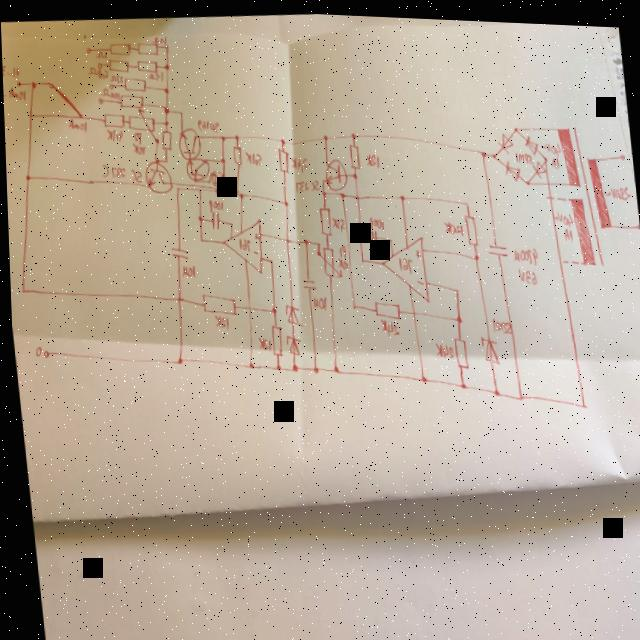capacitor: (485, 235, 508, 253), (168, 244, 187, 258), (299, 273, 316, 288), (208, 206, 220, 227), (368, 224, 378, 244)
crossover: (407, 304, 415, 313), (243, 299, 250, 309), (544, 174, 551, 182)
diode: (478, 328, 499, 360), (502, 153, 521, 181), (282, 298, 301, 324), (283, 330, 301, 354), (496, 125, 514, 148), (523, 129, 539, 151), (531, 153, 547, 175)
junction: (417, 368, 426, 380), (244, 359, 253, 368), (195, 210, 203, 220), (453, 309, 461, 319), (330, 361, 338, 371), (18, 284, 25, 295), (578, 395, 586, 404), (29, 79, 37, 88), (163, 103, 170, 113), (356, 228, 363, 238), (491, 382, 498, 392), (281, 196, 289, 204), (357, 252, 365, 260), (174, 292, 182, 300), (545, 187, 553, 195), (282, 233, 290, 241), (310, 361, 317, 370), (512, 119, 519, 128), (320, 185, 327, 194), (27, 110, 34, 119), (302, 234, 309, 242), (163, 84, 170, 92), (471, 249, 478, 257), (457, 376, 464, 384), (480, 145, 487, 153), (23, 172, 30, 180), (175, 354, 182, 362), (197, 232, 204, 240), (398, 189, 405, 197), (237, 188, 244, 196), (514, 388, 521, 396), (269, 303, 276, 311), (351, 167, 358, 175), (289, 360, 296, 368), (321, 130, 328, 138), (174, 181, 181, 189), (338, 187, 345, 195), (349, 127, 356, 135), (353, 189, 360, 197), (491, 146, 498, 154), (523, 173, 530, 181), (219, 153, 226, 161), (273, 360, 279, 368), (232, 183, 238, 191), (233, 131, 239, 138), (453, 282, 459, 289), (153, 135, 159, 142), (556, 251, 562, 258), (220, 132, 226, 138), (213, 185, 219, 191), (163, 118, 169, 124), (164, 61, 169, 68), (350, 299, 355, 306), (268, 254, 273, 261), (178, 107, 183, 114), (163, 155, 168, 161), (314, 236, 319, 242), (464, 196, 468, 202), (229, 218, 233, 224), (320, 174, 324, 180), (196, 184, 200, 190), (387, 233, 391, 239)
resistor: (198, 286, 237, 315), (125, 102, 157, 136), (265, 317, 284, 357), (371, 293, 400, 318), (317, 241, 338, 275), (450, 330, 468, 367), (463, 207, 478, 242), (100, 109, 127, 128), (118, 91, 146, 109), (122, 74, 148, 92), (134, 37, 160, 55), (106, 55, 132, 72), (275, 143, 290, 172), (317, 201, 331, 232), (108, 37, 132, 55), (134, 55, 158, 71), (158, 124, 173, 149), (348, 137, 360, 166), (230, 140, 243, 164)
source: (278, 133, 285, 143)
switch: (44, 40, 119, 124)
terminal: (39, 347, 48, 358), (14, 78, 24, 87), (619, 145, 626, 154), (634, 215, 638, 225)
text: (100, 159, 142, 184), (511, 239, 539, 260), (602, 178, 632, 196), (2, 82, 26, 103), (550, 202, 573, 223), (208, 307, 230, 328), (98, 85, 122, 103), (196, 114, 220, 132), (377, 313, 398, 333), (516, 261, 537, 281), (65, 115, 89, 132), (289, 150, 308, 170), (442, 214, 463, 232), (432, 336, 453, 354), (293, 175, 318, 190), (102, 125, 124, 142), (86, 64, 109, 80), (243, 146, 263, 164), (363, 147, 381, 167), (2, 60, 20, 79), (395, 249, 412, 269), (540, 135, 561, 151), (491, 312, 510, 329), (364, 211, 384, 227), (328, 212, 344, 231), (309, 291, 327, 306), (254, 332, 269, 350), (151, 30, 170, 44), (179, 261, 195, 277), (514, 144, 531, 159), (236, 232, 249, 250), (131, 139, 145, 155), (146, 68, 164, 80), (208, 195, 223, 209), (92, 46, 110, 57), (108, 71, 123, 83), (549, 150, 561, 165), (335, 253, 347, 268), (562, 220, 572, 236), (132, 128, 142, 143), (336, 241, 346, 255), (32, 344, 40, 356), (412, 242, 419, 254), (414, 272, 422, 280), (252, 229, 259, 237), (252, 246, 257, 251)
transformer: (553, 113, 619, 268)
transistor: (321, 153, 348, 188), (184, 154, 210, 178), (208, 166, 224, 183)
